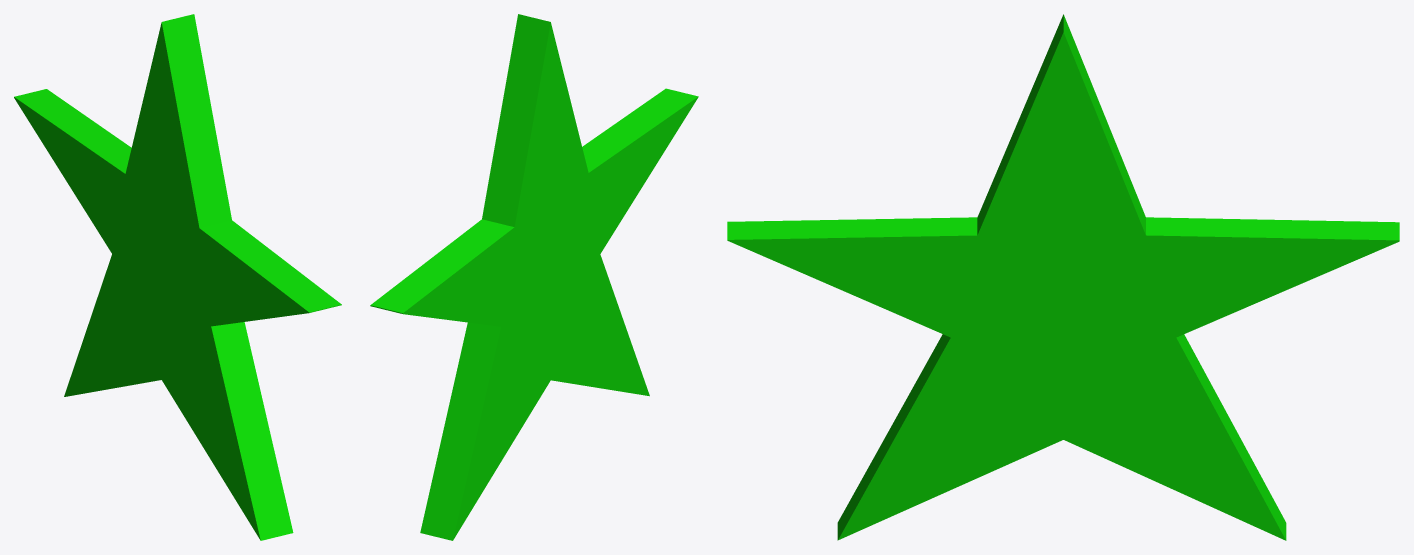
Rendered from Green_star.fbx.
3 views of the same model, side by side, from view 1: azimuth 30°, elevation 25°; view 2: azimuth 150°, elevation 25°; view 3: azimuth 270°, elevation 25° (orthographic). The views are drawn at different scales.
Parts seen in each view (by area): view 1: Cube; view 2: Cube; view 3: Cube.
Boxes of the visible parts, x1=… form: Cube: x1=14, y1=14, x2=341, y2=540; Cube: x1=370, y1=14, x2=698, y2=540; Cube: x1=727, y1=14, x2=1399, y2=540.
Bounding box in the file's own units: 38.17 × 498 × 597.
